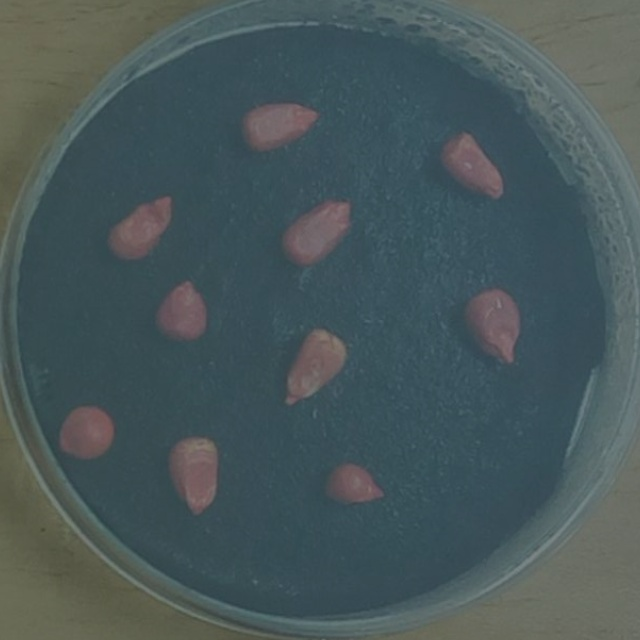Zea mays: (275, 322, 351, 417), (273, 193, 359, 275), (97, 188, 179, 271), (159, 429, 226, 526), (432, 125, 510, 208), (456, 283, 527, 374), (233, 94, 327, 159), (145, 273, 214, 350), (49, 399, 120, 465), (314, 454, 392, 514)
